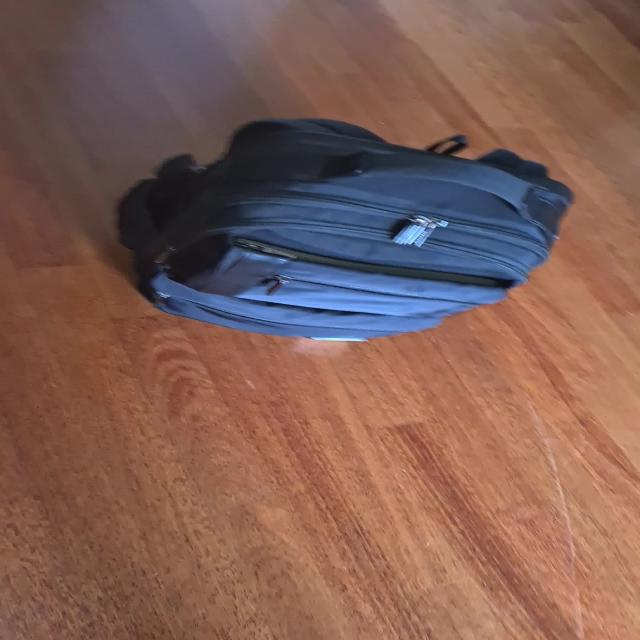backpack: (105, 108, 585, 344)
